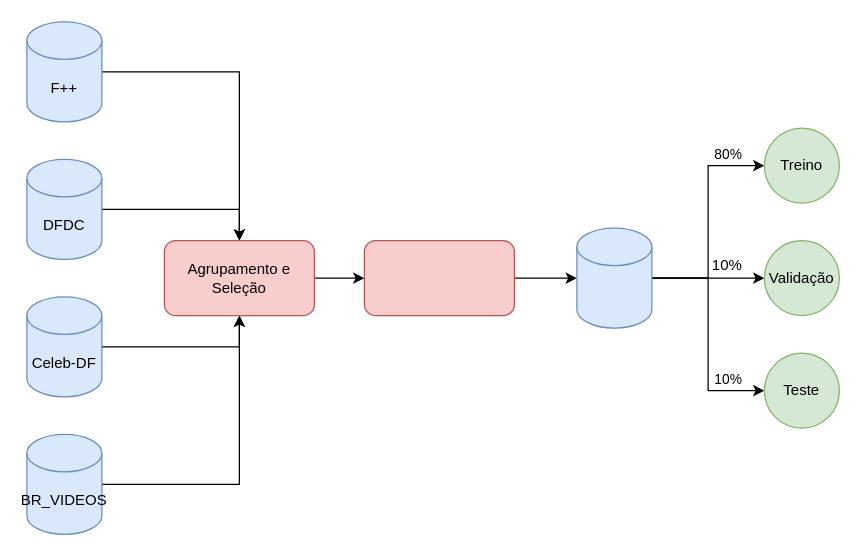
Image size: 861x556. Some labels were removed from this diagram. Each missing label, with the centre of its shape:
"Aumentação (OPCIONAL)" goes at pixel 438 277.
"DB Personalizado" goes at pixel 614 277.
